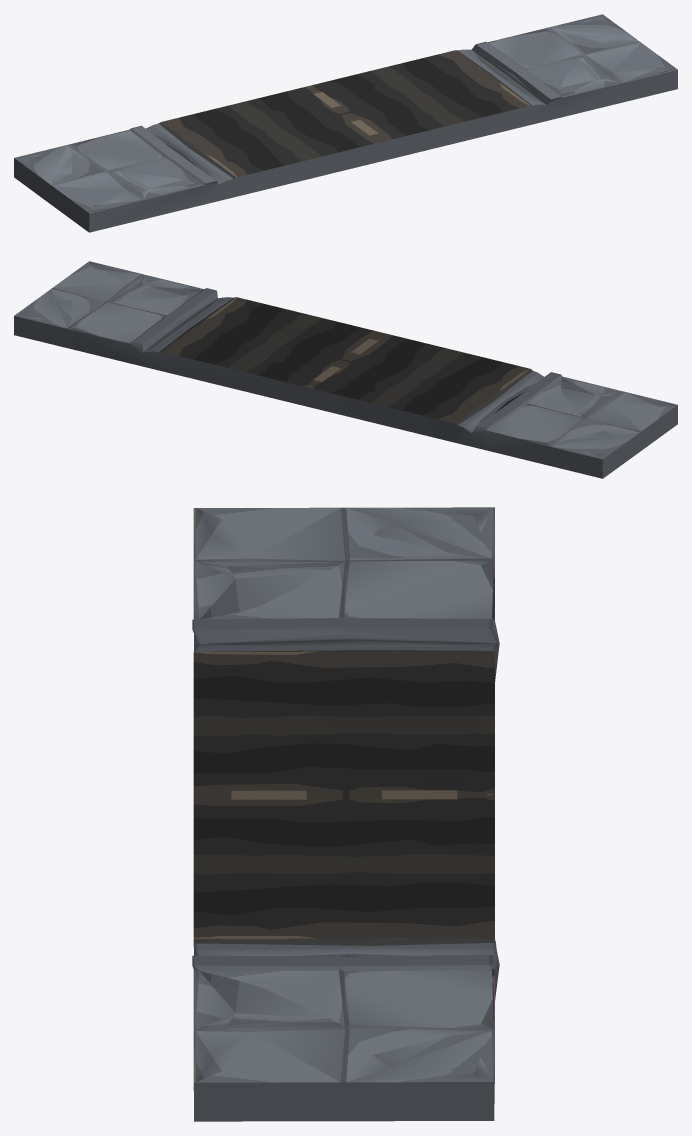
Rendered from roadnormal_1.fbx.
3 renders of one model, top to bottom at view 1: azimuth 30°, elevation 25°; view 2: azimuth 150°, elevation 25°; view 3: azimuth 270°, elevation 25°, orthographic. The views are drawn at different scales.
Visible parts, largest first — view 1: SM_Env_Road_BridgeRamp_02; view 2: SM_Env_Road_BridgeRamp_02; view 3: SM_Env_Road_BridgeRamp_02.
Part boxes in pixels (x1,y1,x2,y2): SM_Env_Road_BridgeRamp_02: [14, 14, 677, 232]; SM_Env_Road_BridgeRamp_02: [14, 261, 677, 478]; SM_Env_Road_BridgeRamp_02: [192, 507, 499, 1121].
Bounding box in the file's own units: 1300 × 44.72 × 294.
Materials: 2 (2 with a texture image).
